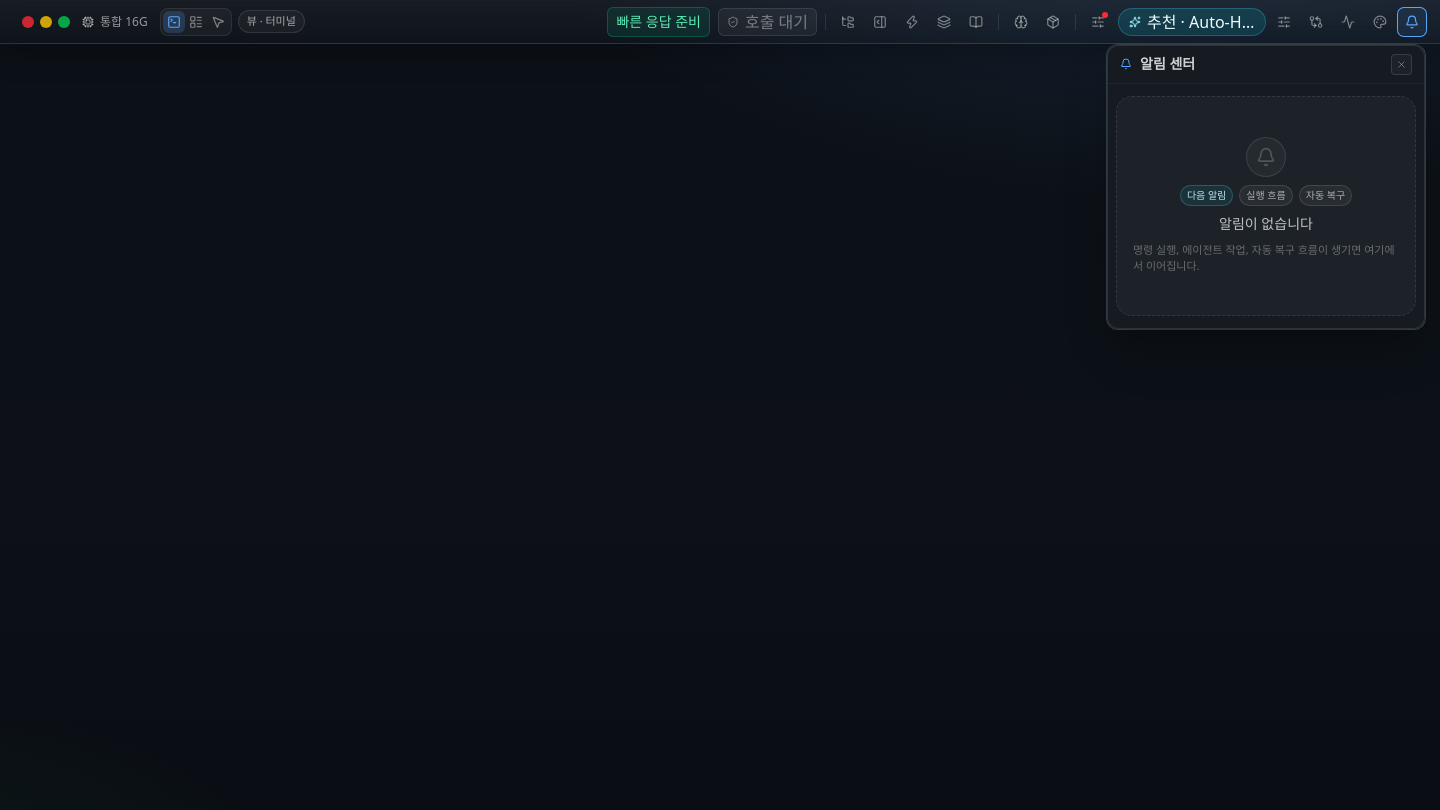
Test case: AppHeader › 알림 센터를 트리거 버튼으로 닫으면 포커스가 트리거로 돌아간다
The image size is (1440, 810).
Click the button named "알림 센터" at (1412,22), box [1398,8,1426,36]
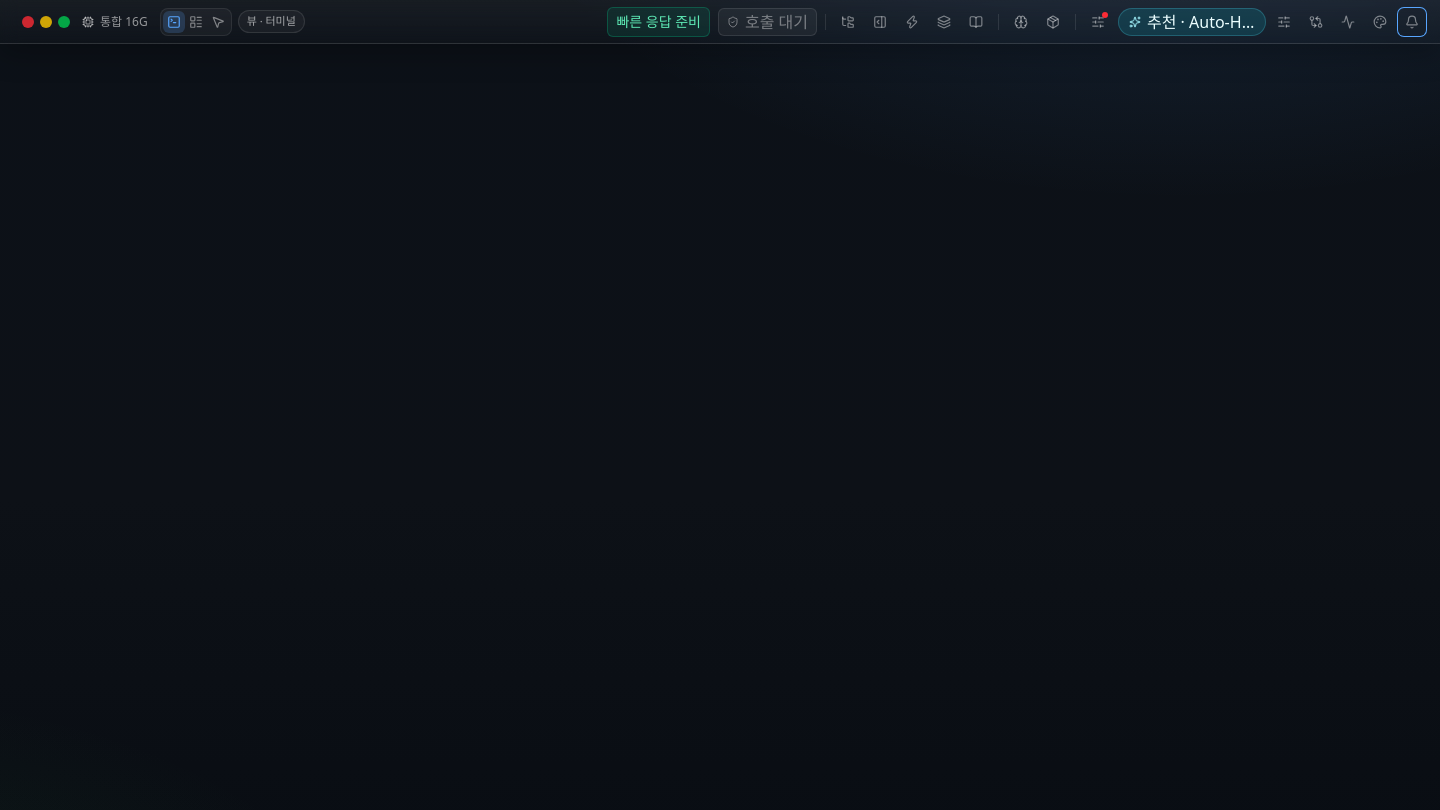
expect the text "알림 센터" is gone: met
